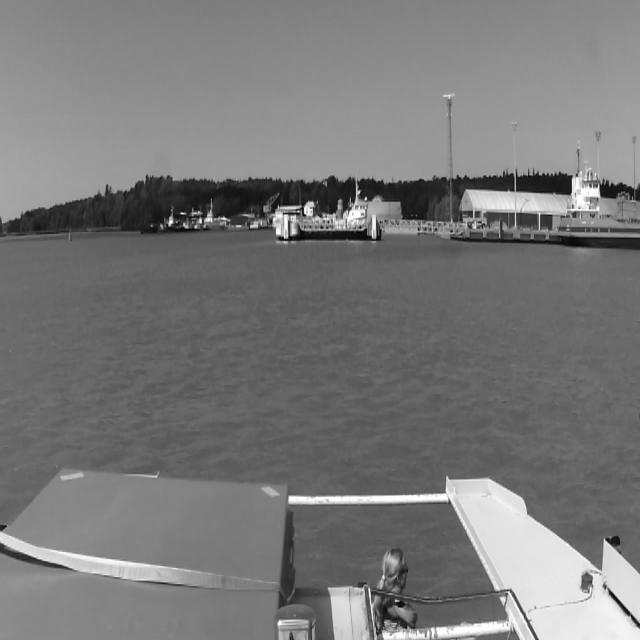buoy: (67, 228, 73, 242)
